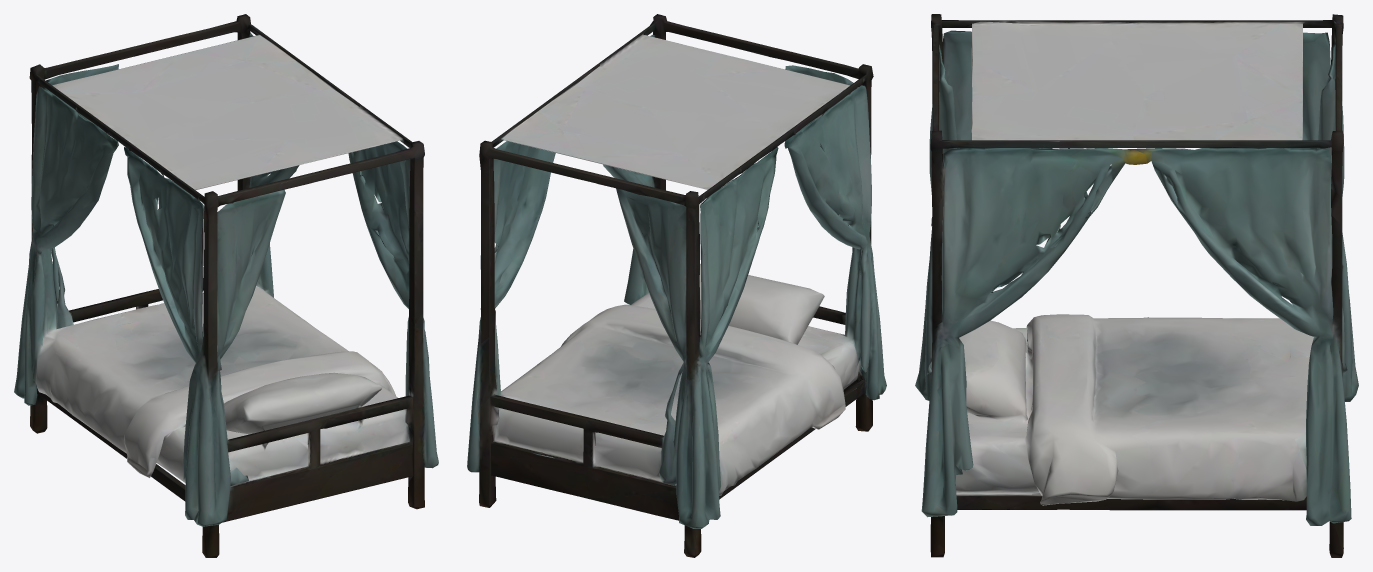
Rendered from hw_chuang.glb.
3 renders of one model, left to right at view 1: azimuth 30°, elevation 25°; view 2: azimuth 150°, elevation 25°; view 3: azimuth 270°, elevation 25°, orthographic. The views are drawn at different scales.
Visible parts, largest first — view 1: tripo_node_23d96038-7a6d-4790-825b-c3763c24162e; view 2: tripo_node_23d96038-7a6d-4790-825b-c3763c24162e; view 3: tripo_node_23d96038-7a6d-4790-825b-c3763c24162e.
Boxes of the visible parts, x1,y1,x2,y2 form: tripo_node_23d96038-7a6d-4790-825b-c3763c24162e: [14, 14, 438, 557]; tripo_node_23d96038-7a6d-4790-825b-c3763c24162e: [467, 14, 886, 557]; tripo_node_23d96038-7a6d-4790-825b-c3763c24162e: [915, 14, 1358, 557].
Bounding box in the file's own units: 0.7413 × 1 × 0.9531.
1 material, 1 textured.
